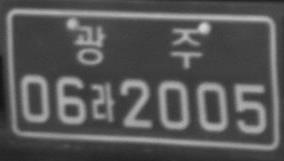0: (196, 81, 229, 133), (158, 79, 190, 130), (20, 73, 49, 123)
2: (120, 78, 153, 128)
5: (233, 81, 268, 134)
6: (56, 75, 87, 125)
광주_D: (73, 25, 202, 69)
라: (90, 82, 115, 121)
